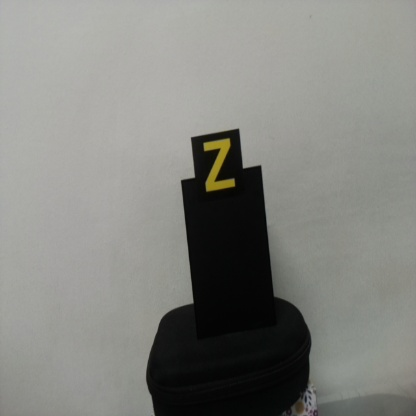id_15: (192, 137, 244, 200)
